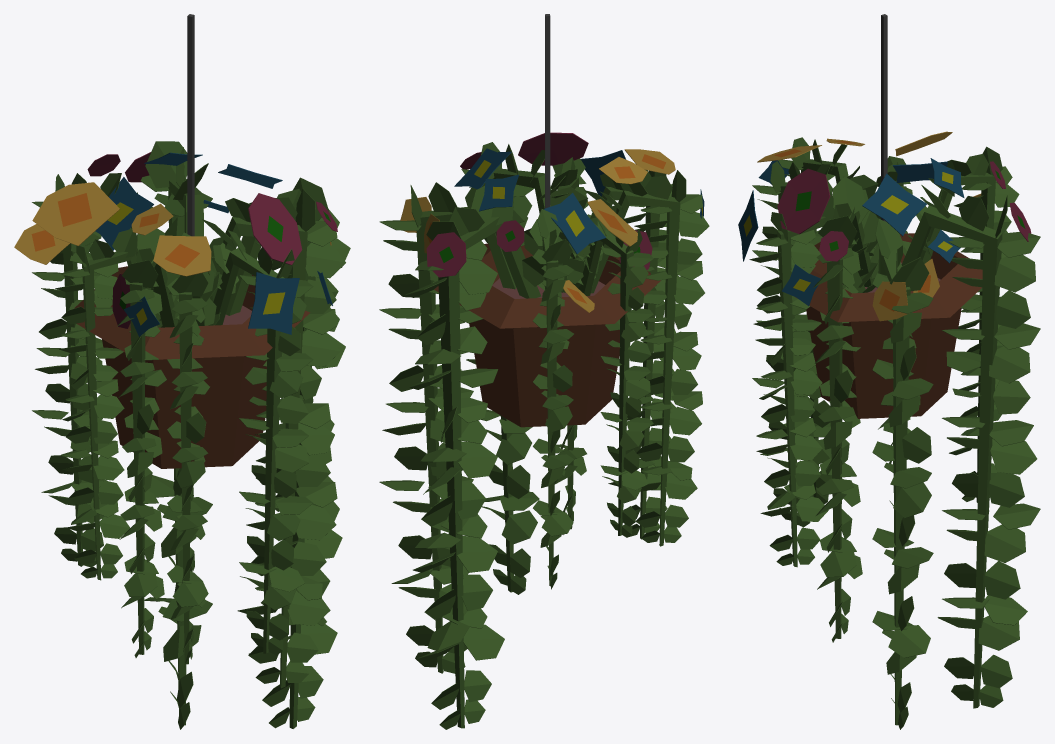
Rendered from FlowerPot3.glb.
3 views of the same model, side by side, from view 1: azimuth 30°, elevation 25°; view 2: azimuth 150°, elevation 25°; view 3: azimuth 270°, elevation 25° (orthographic). The views are drawn at different scales.
Visible parts, largest first — view 1: FlowerPot3; view 2: FlowerPot3; view 3: FlowerPot3.
Boxes of the visible parts, x1=… form: FlowerPot3: x1=14, y1=14, x2=350, y2=729; FlowerPot3: x1=379, y1=14, x2=709, y2=729; FlowerPot3: x1=738, y1=14, x2=1040, y2=729.
Size of the model in its own units: 0.9223 by 2.26 by 0.9186.
